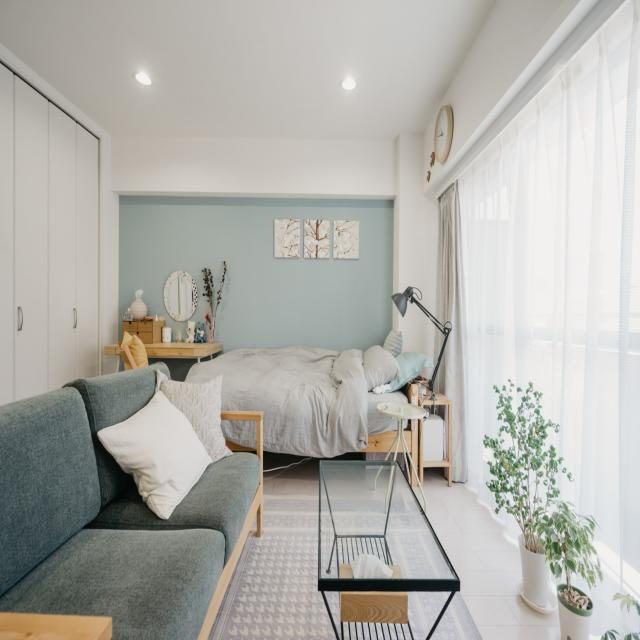modern bed: (192, 330, 448, 453)
modern desk: (310, 447, 461, 640)
modern sofa: (1, 355, 267, 640)
